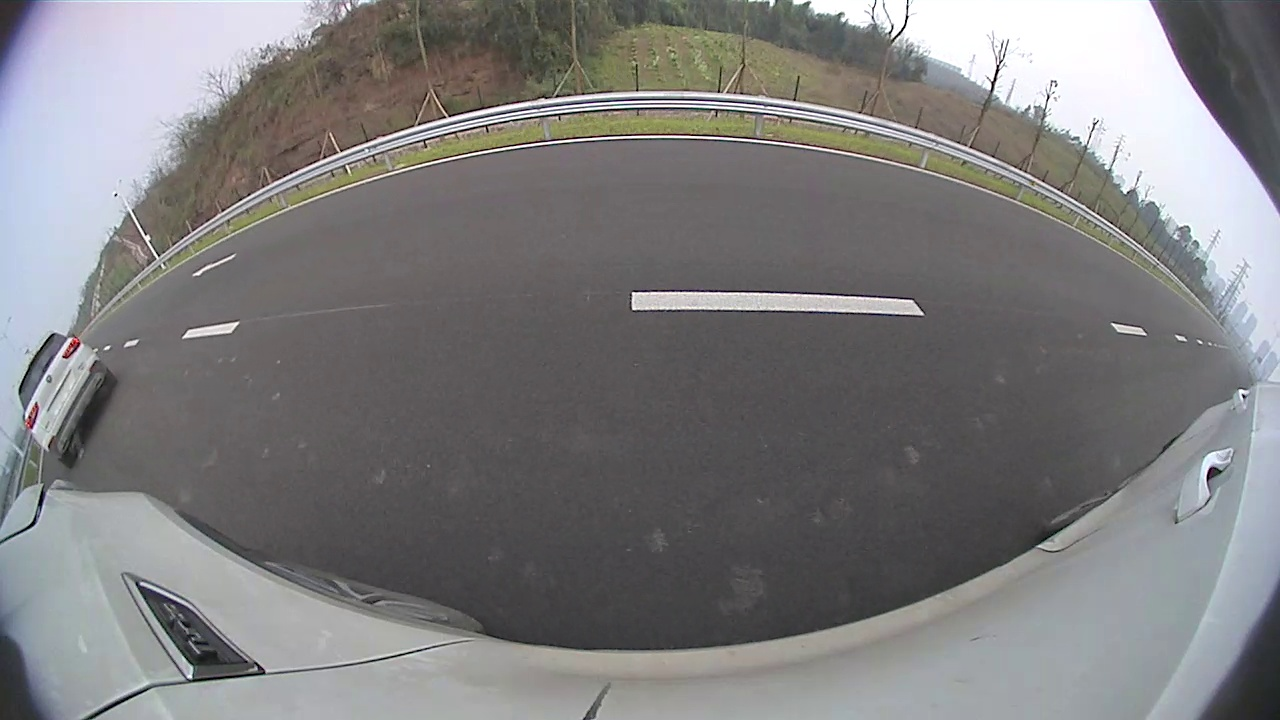car: (17, 331, 117, 469)
